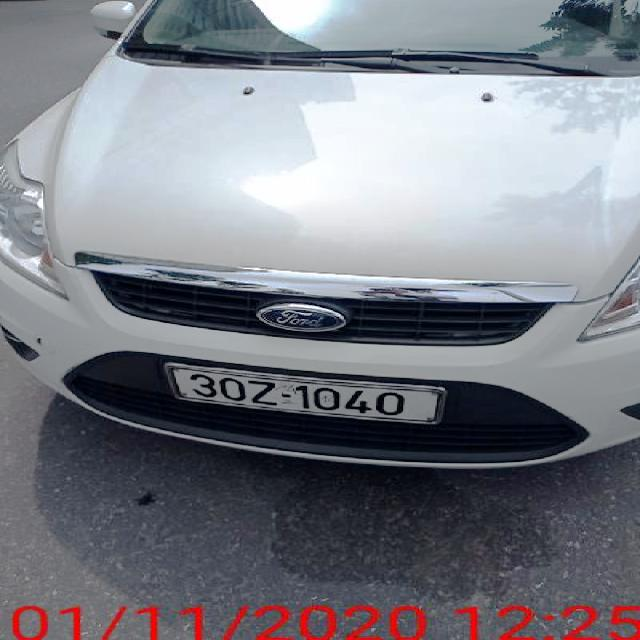license_plate: (169, 366, 438, 423)
